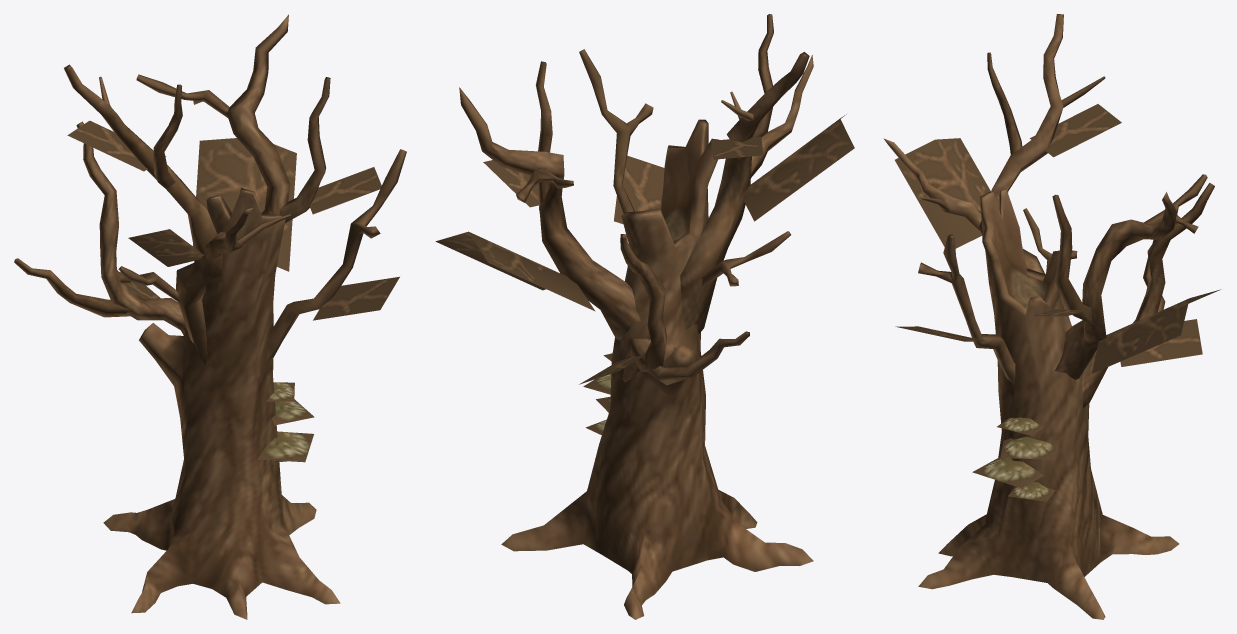
File: new_tree_c.FBX
3 renders of one model, left to right at view 1: azimuth 30°, elevation 25°; view 2: azimuth 150°, elevation 25°; view 3: azimuth 270°, elevation 25°, orthographic. The views are drawn at different scales.
Visible parts, largest first — view 1: new_tree_c; view 2: new_tree_c; view 3: new_tree_c.
Part boxes in pixels (x1,y1,x2,y2): new_tree_c: (14, 14, 406, 619); new_tree_c: (435, 14, 854, 619); new_tree_c: (883, 14, 1220, 619).
Size of the model in its own units: 74.77 by 122 by 76.35.
1 material, 1 textured.
